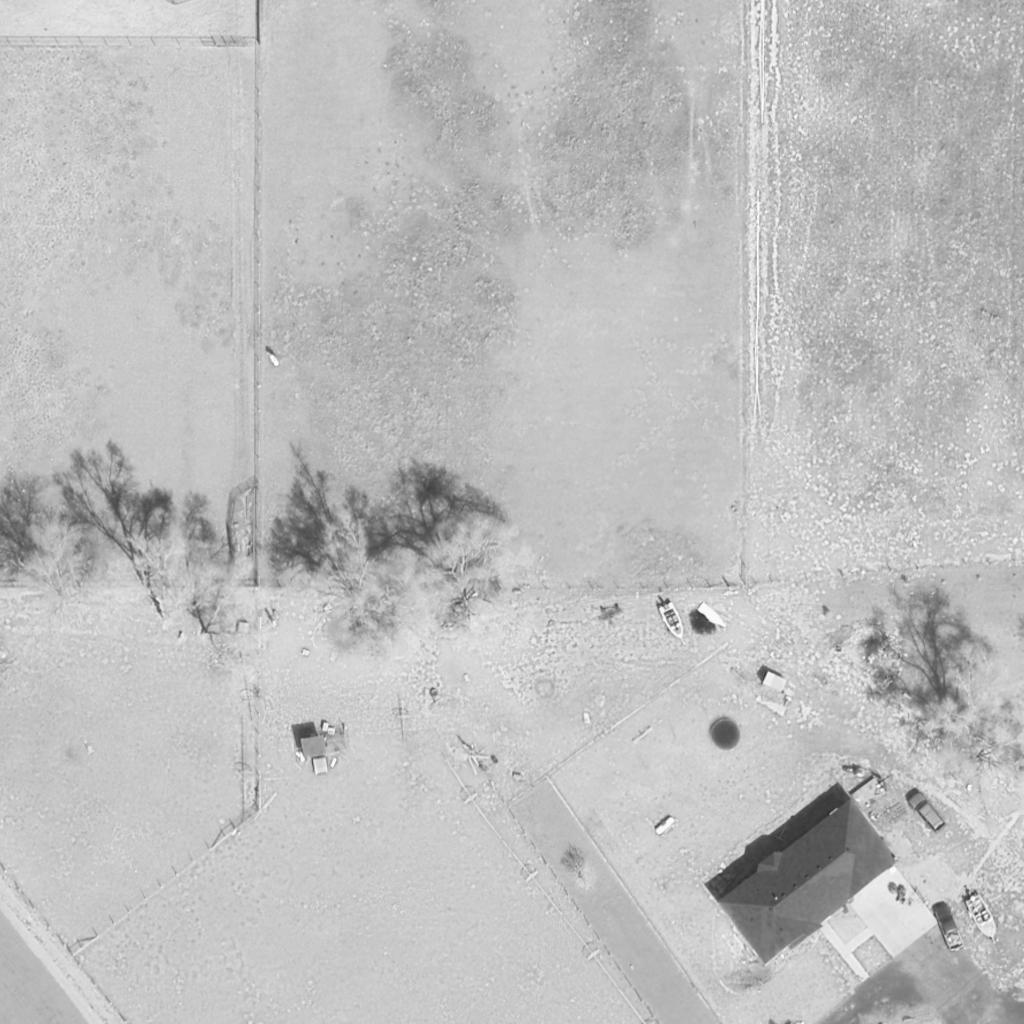vehicle: (929, 903, 965, 949), (656, 602, 694, 644), (965, 896, 1001, 940), (905, 796, 951, 830)
